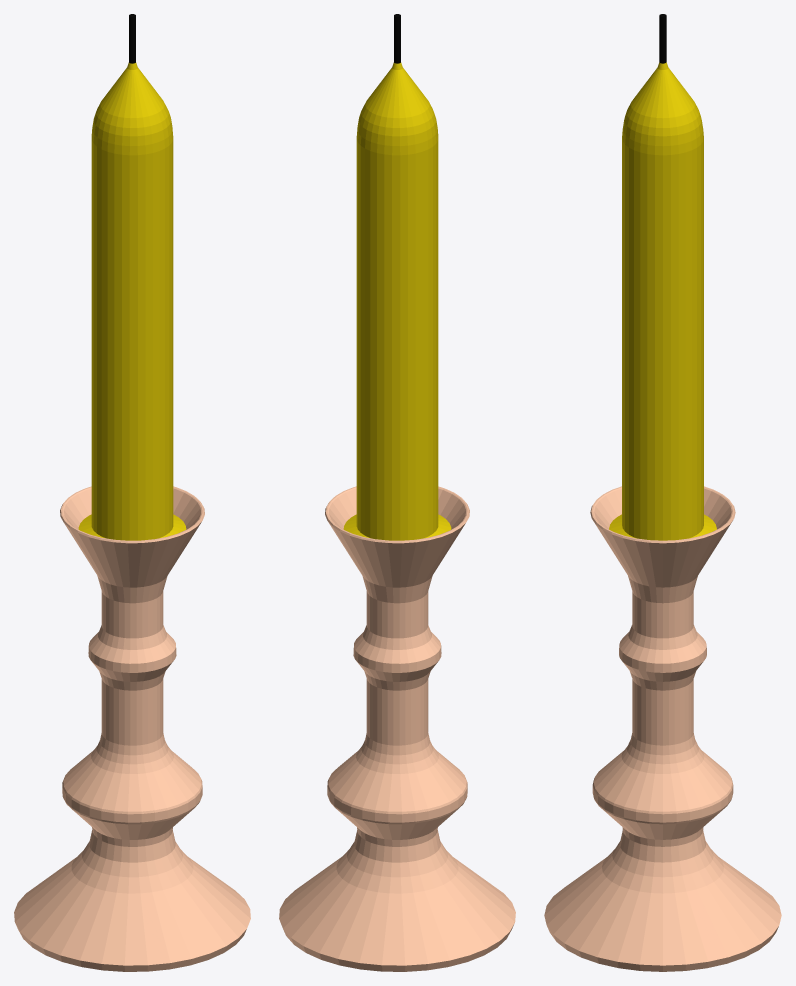
File: candle.fbx
3 views of the same model, side by side, from view 1: azimuth 30°, elevation 25°; view 2: azimuth 150°, elevation 25°; view 3: azimuth 270°, elevation 25° (orthographic).
Visible parts, largest first — view 1: Candle; view 2: Candle; view 3: Candle.
Part boxes in pixels (x1,y1,x2,y2): Candle: (14,14,250,971); Candle: (279,14,515,971); Candle: (544,14,781,971).
Size of the model in its own units: 185 by 782 by 185.
